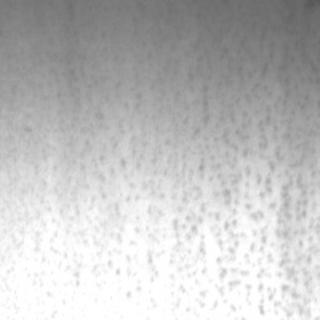pitted_surface: (16, 2, 312, 310)
